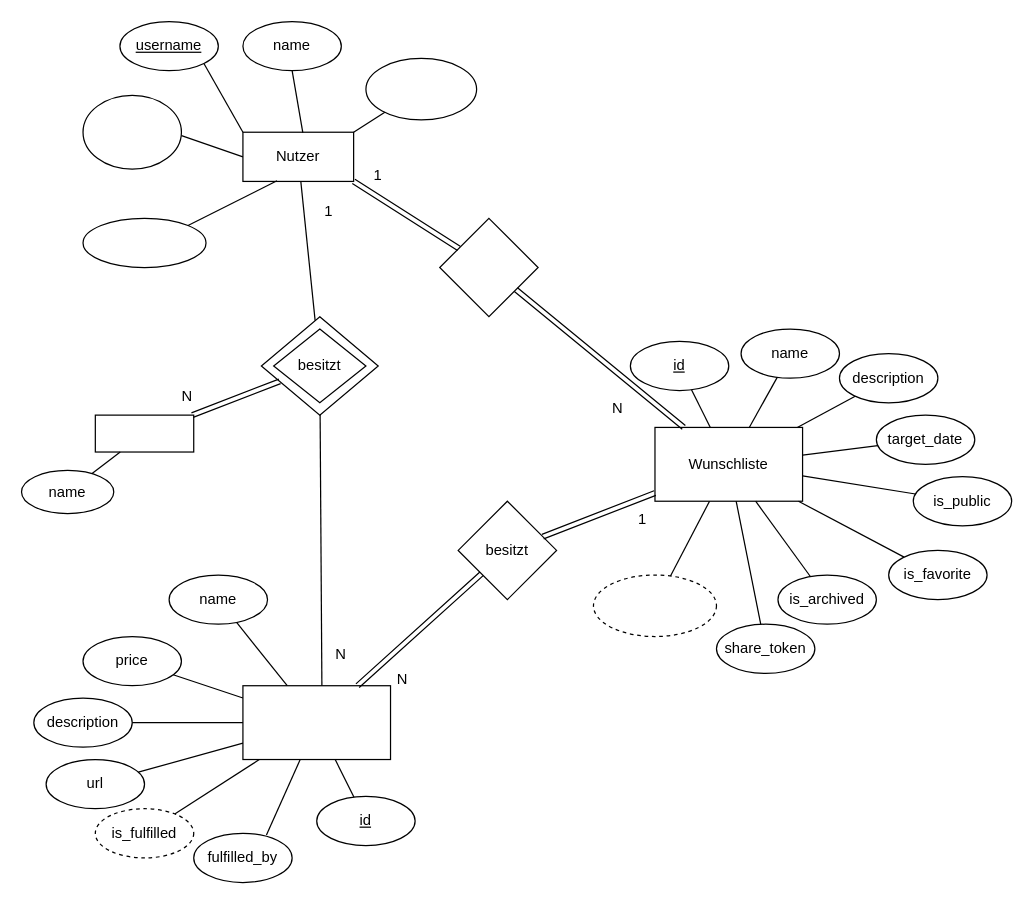
Image size: 1033x904. Some labels were removed from this diagram. The centre of each missing label's shape, as x and y in pixels:
"Anzahl Wünsche" goes at [654,605].
"email" goes at [131,131].
"Kategorie" goes at [144,433].
"password" goes at [421,88].
"session_token" goes at [144,242].
"Verwaltet" goes at [488,267].
"Wunsch" goes at [316,722].
